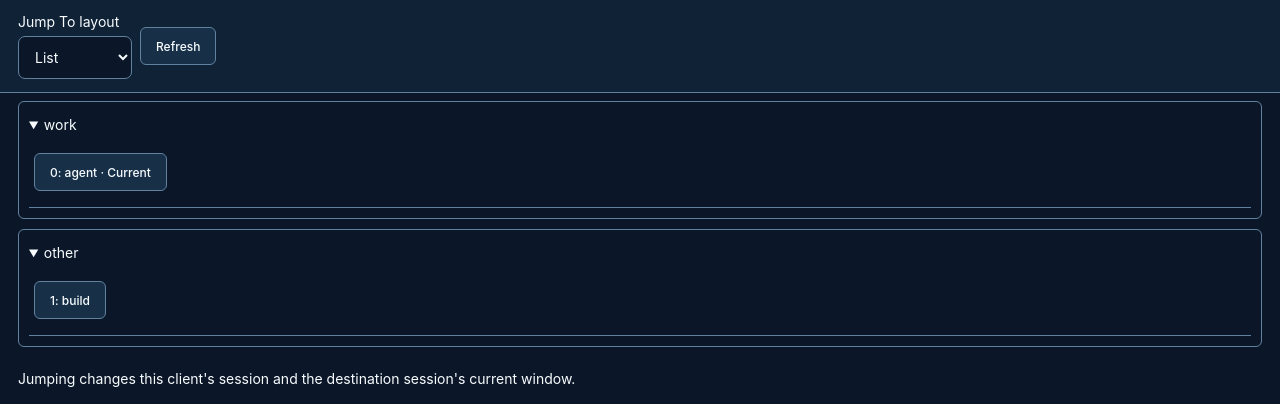
Test: keeps a persistent picker on the returned generation for the next exact jump
Click the button "1: build".
click(70, 300)  # box [34,281,106,319]
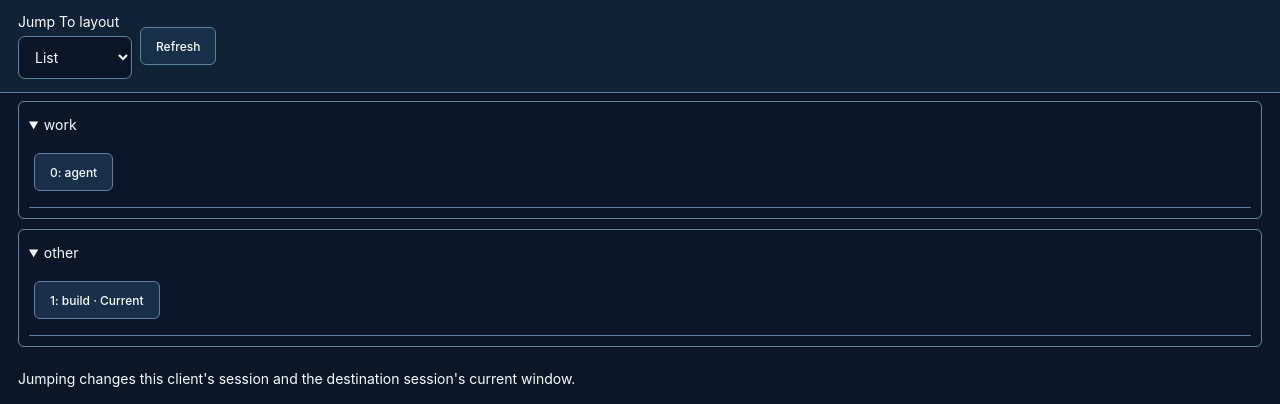
Result: the button "1: build · Current" is shown at [34,281,160,319]
Click the button "0: agent".
click(74, 172)  # box [34,153,113,191]
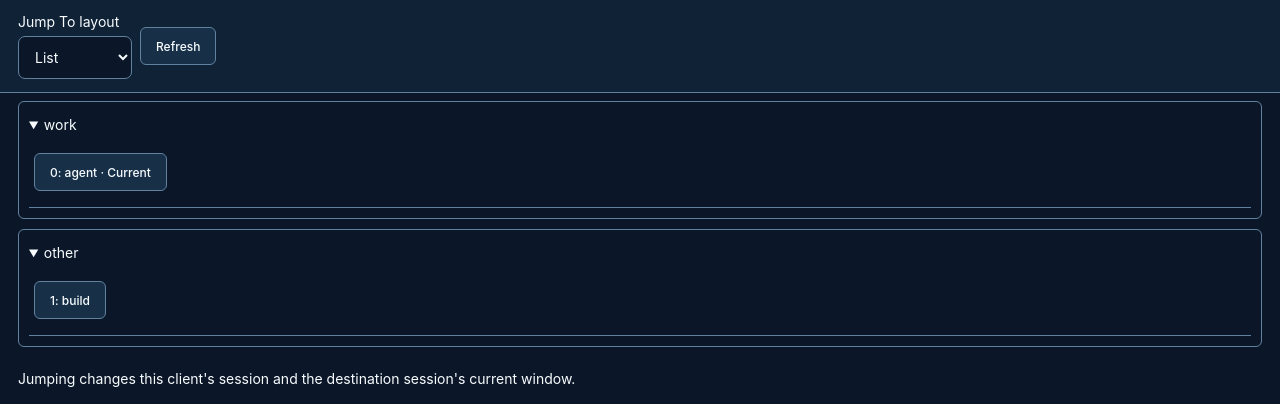
Result: the button "0: agent · Current" is shown at [34,153,167,191]
